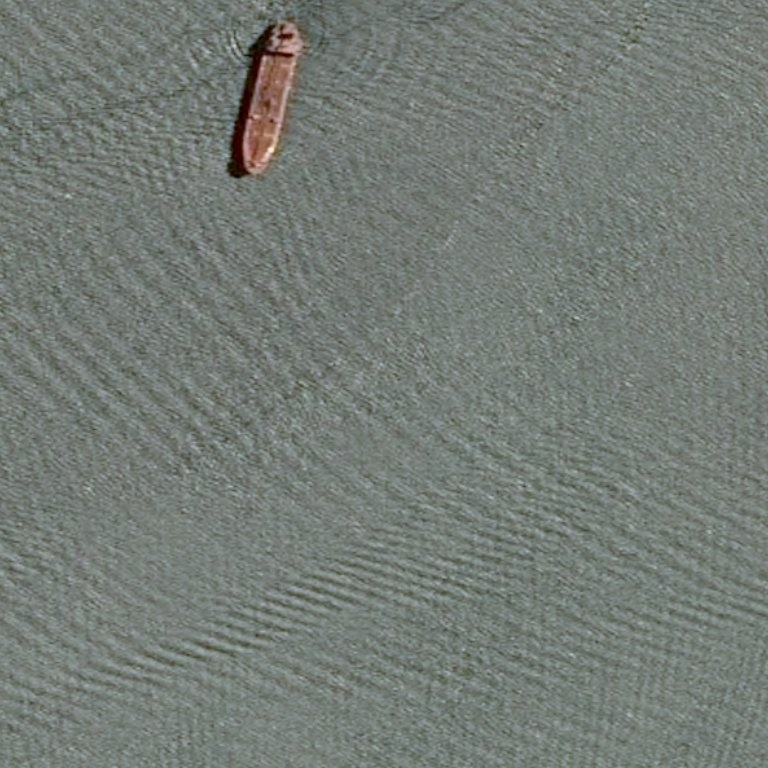ship: (240, 25, 302, 173)
